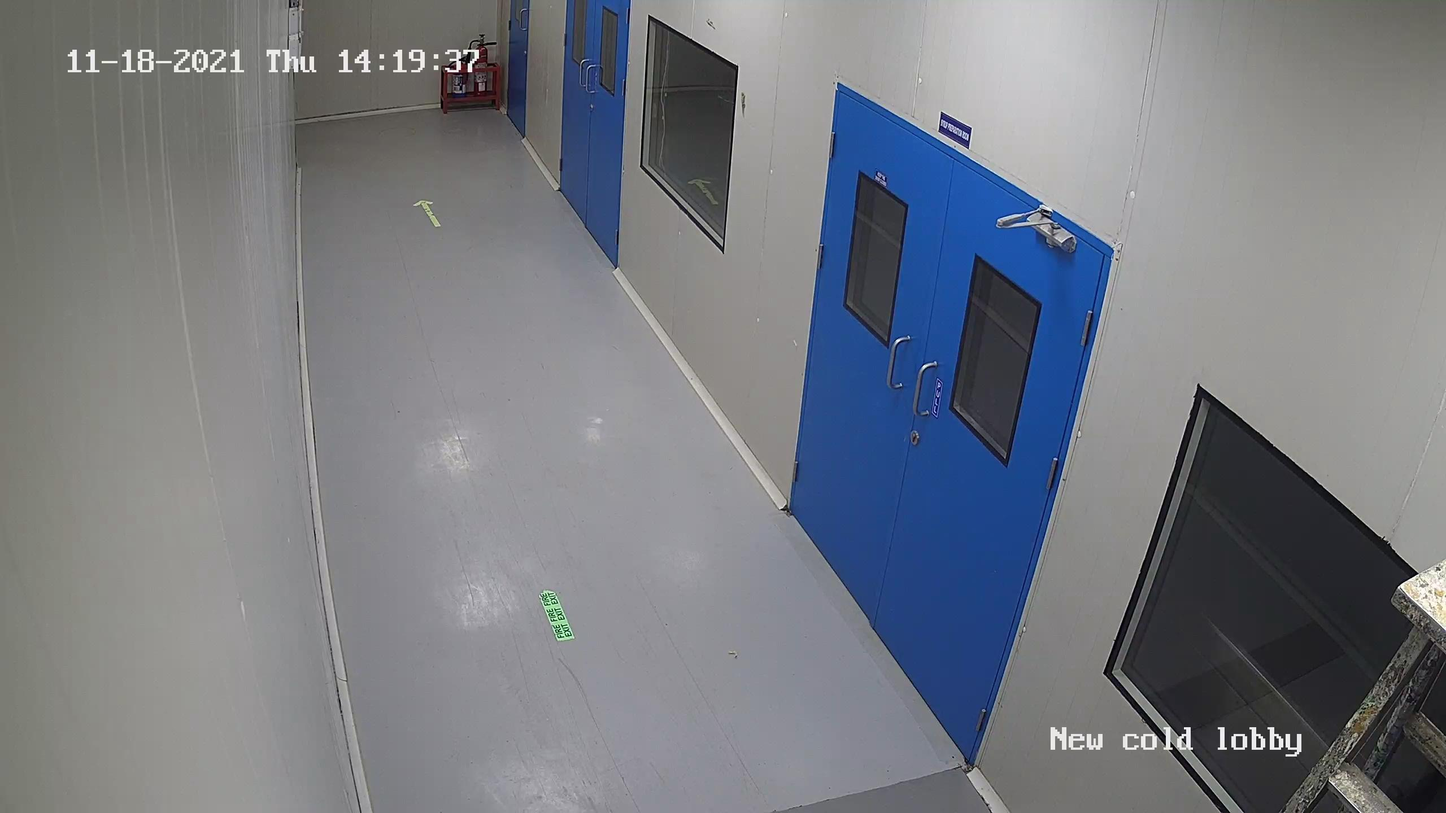lizard: (702, 15, 717, 32), (739, 88, 747, 117)
